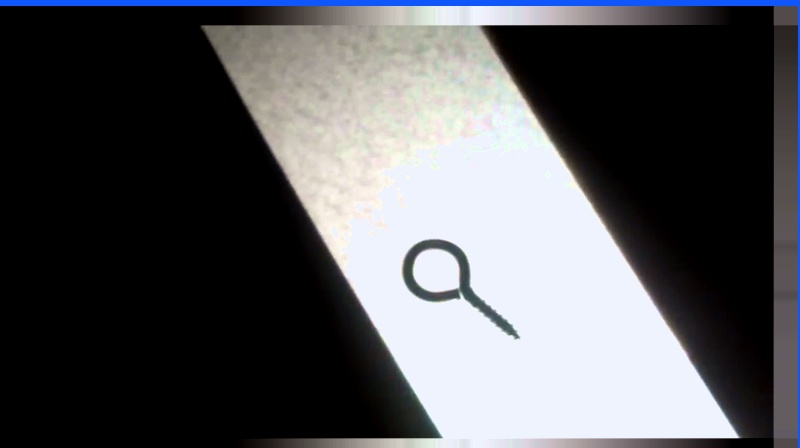O001: (398, 237, 523, 348)
